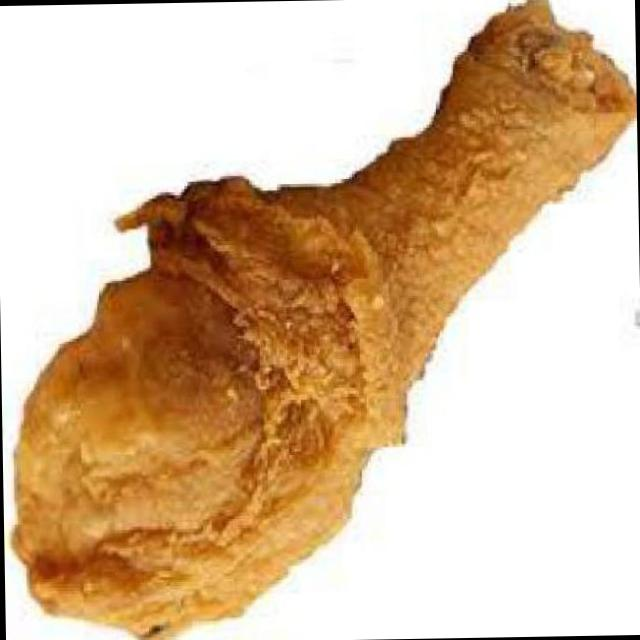Fried Chicken: (11, 0, 636, 640)
